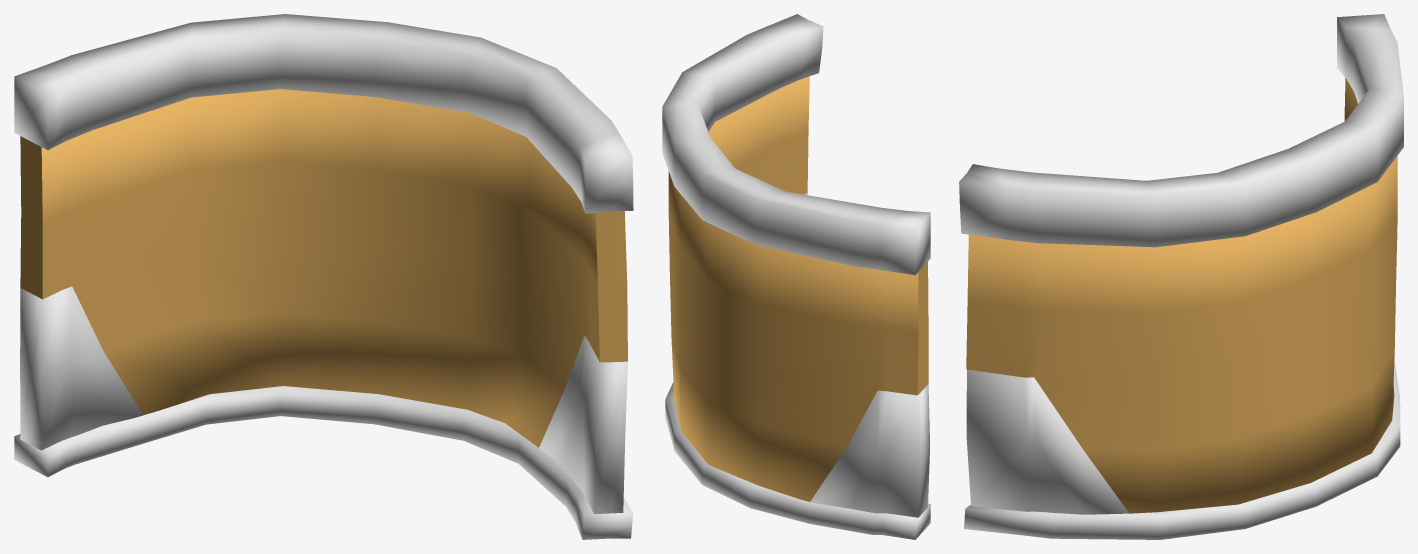
File: wall platform_curved.fbx
3 renders of one model, left to right at view 1: azimuth 30°, elevation 25°; view 2: azimuth 150°, elevation 25°; view 3: azimuth 270°, elevation 25°, orthographic. The views are drawn at different scales.
Visible parts, largest first — view 1: Cube.111; view 2: Cube.111; view 3: Cube.111.
Part boxes in pixels (x1,y1,x2,y2): Cube.111: [14, 14, 633, 539]; Cube.111: [662, 14, 930, 539]; Cube.111: [959, 14, 1403, 539].
Bounding box in the file's own units: 484 × 431 × 499.
